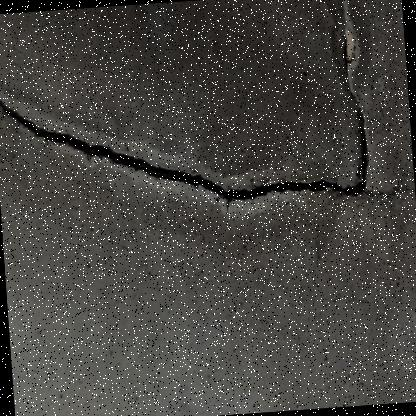Crack: (0, 0, 397, 242)
